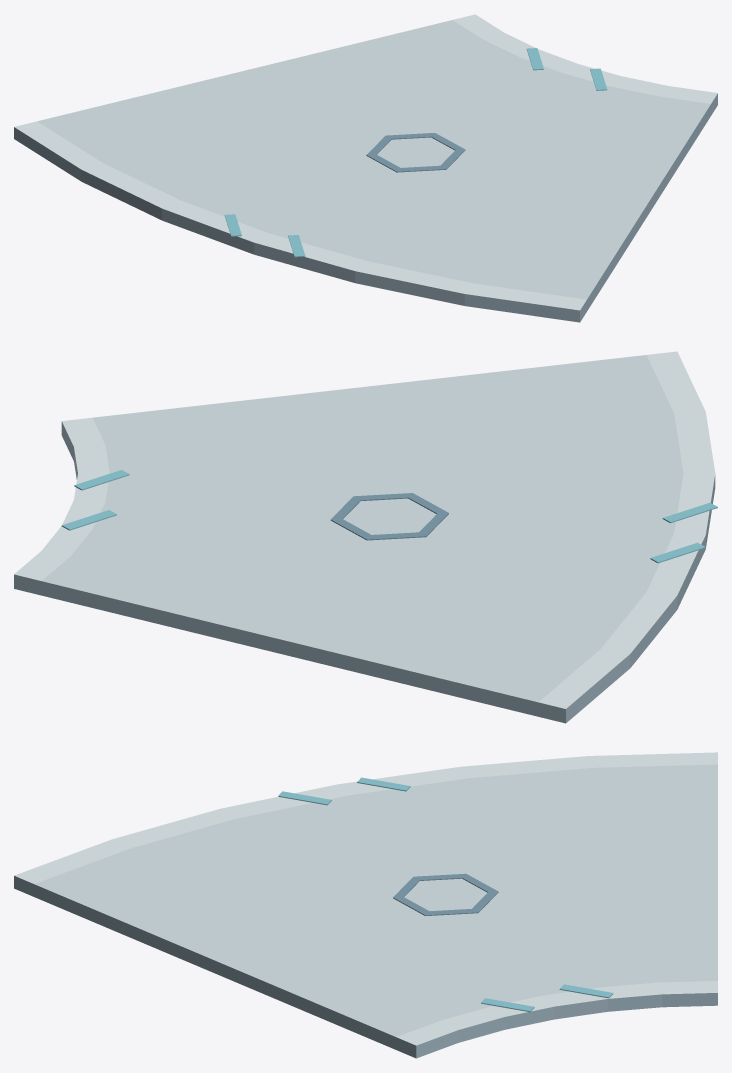
File: campus_walk_bend_45_v01.glb
3 renders of one model, top to bottom at view 1: azimuth 30°, elevation 25°; view 2: azimuth 150°, elevation 25°; view 3: azimuth 270°, elevation 25°, orthographic. The views are drawn at different scales.
Parts seen in each view (by area): view 1: campus_walk_bend_45; view 2: campus_walk_bend_45; view 3: campus_walk_bend_45.
Part boxes in pixels (x1=…): campus_walk_bend_45: x1=14, y1=14, x2=717, y2=322; campus_walk_bend_45: x1=14, y1=351, x2=717, y2=723; campus_walk_bend_45: x1=14, y1=752, x2=717, y2=1058.
Bounding box in the file's own units: 3.9 × 0.087 × 3.96.
1 material, 1 textured.
